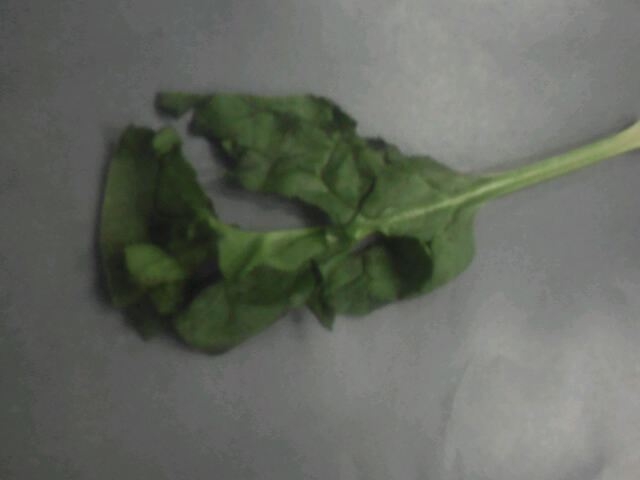yellow: (54, 67, 565, 351)
